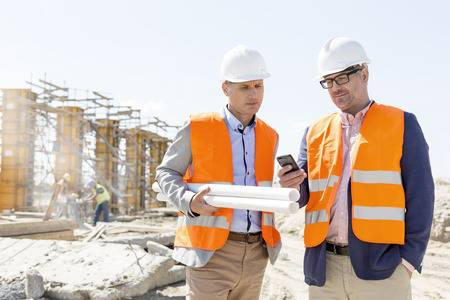casco: (313, 35, 373, 86), (216, 43, 271, 84), (83, 179, 96, 190), (62, 172, 73, 183)
